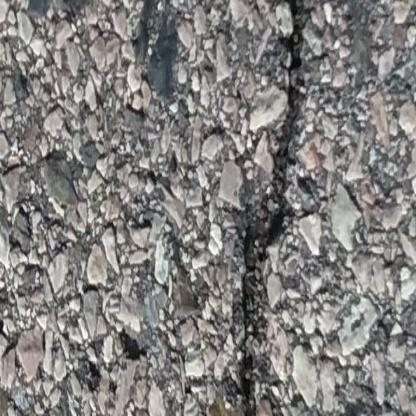Cracks: (236, 0, 313, 416)
